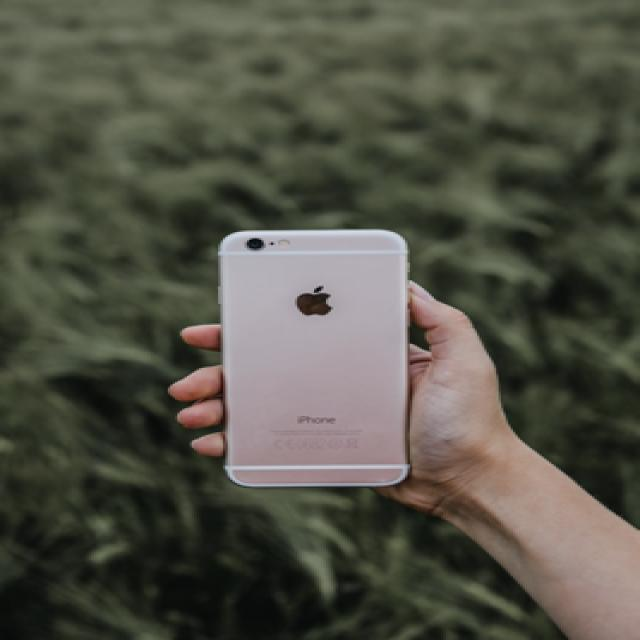cellphone: (216, 227, 410, 488)
